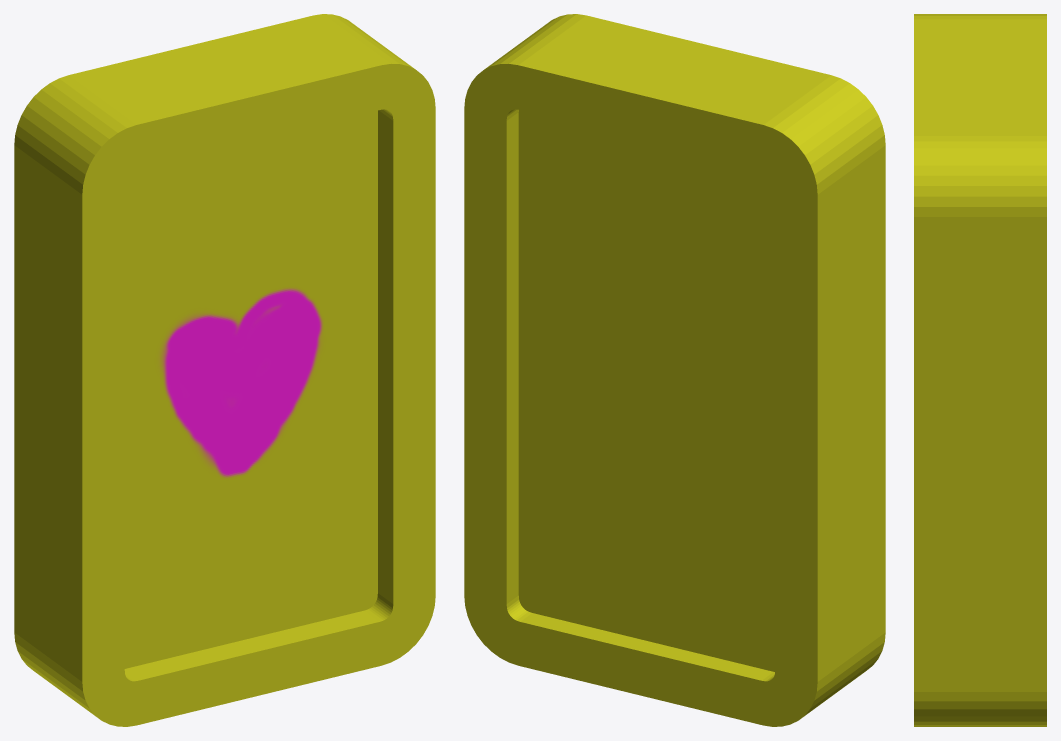
File: domino_test.glb
The picture shows the model from 3 angles, left to right: view 1: azimuth 30°, elevation 25°; view 2: azimuth 150°, elevation 25°; view 3: azimuth 270°, elevation 25°; orthographic projection. The views are drawn at different scales.
Parts seen in each view (by area): view 1: Cube; view 2: Cube; view 3: Cube.
Part boxes in pixels (left/top/right/bottom): Cube: left=14, top=14, right=435, bottom=726; Cube: left=464, top=14, right=885, bottom=726; Cube: left=914, top=14, right=1046, bottom=726.
Bounding box in the file's own units: 0.6392 × 1.04 × 0.2132.
1 material, 1 textured.
